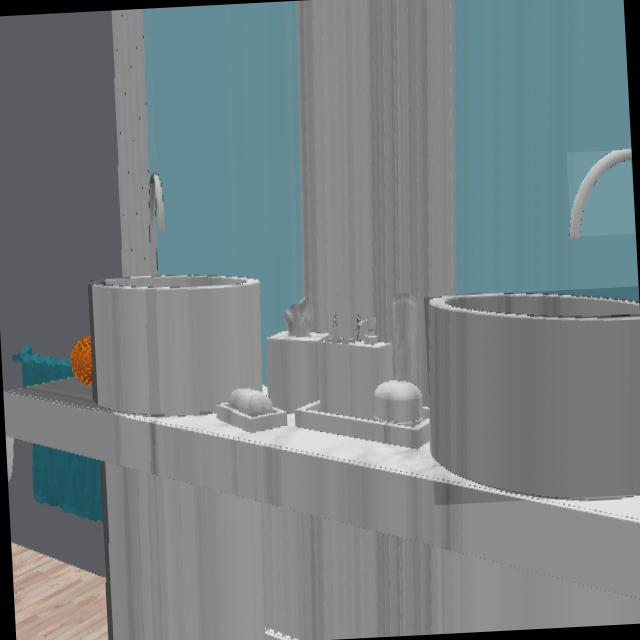washbasin: (429, 293, 640, 497), (90, 175, 262, 414), (571, 150, 631, 236)
